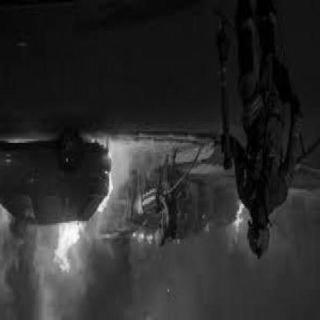Fire: (55, 166, 113, 292), (214, 184, 264, 278)
